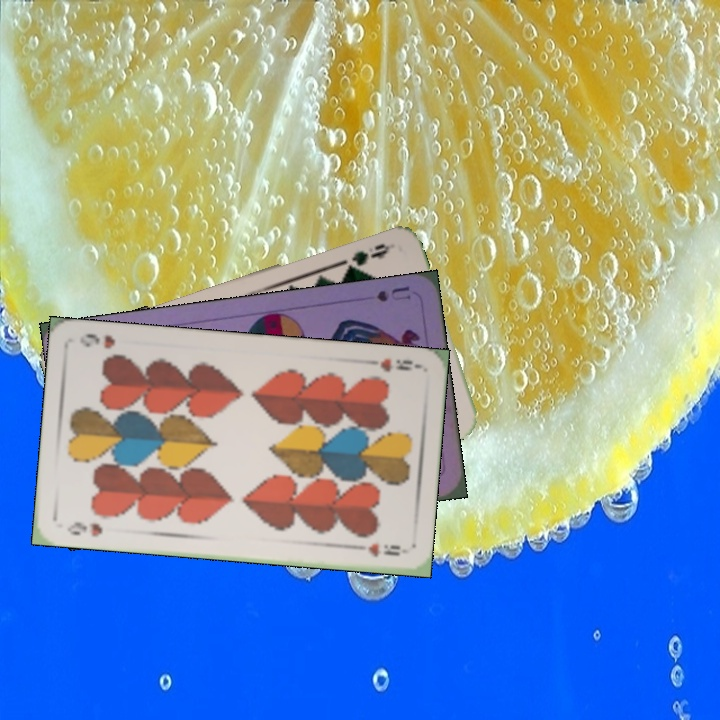G9: (338, 239, 396, 273)
H9: (362, 354, 422, 375), (63, 517, 105, 539)
SU: (372, 282, 414, 305)
